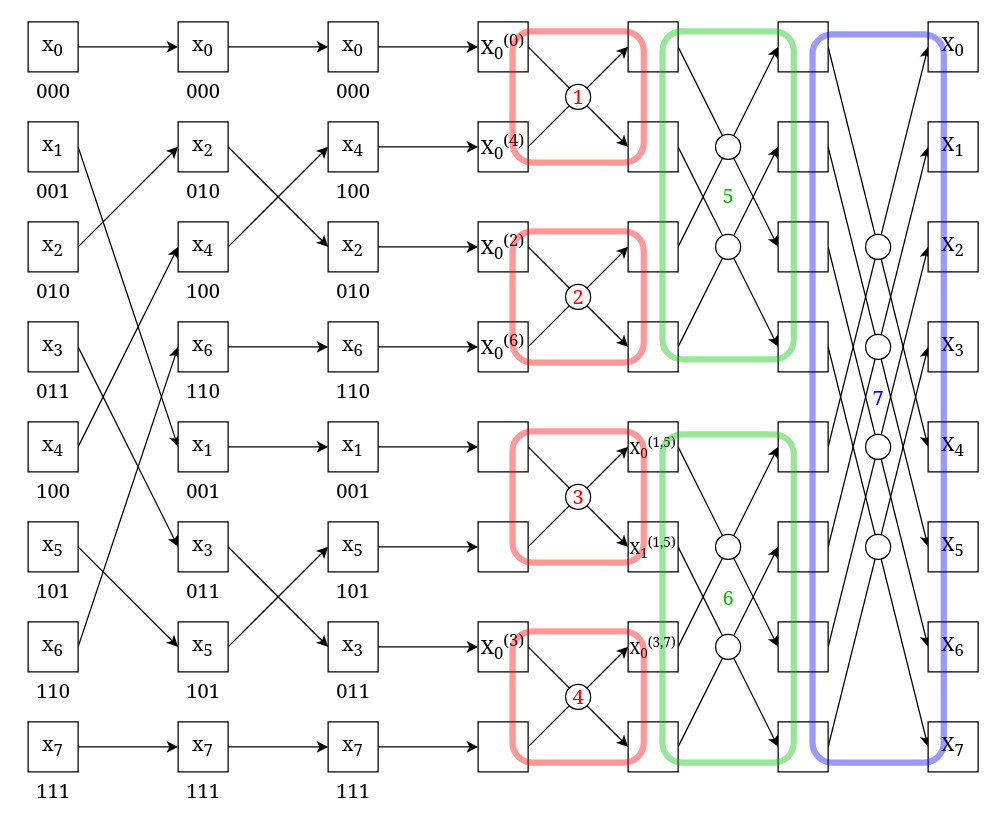
The diagram is 1000 pixels wide and 831 high, and some of its shapes have lost their labels. Each missing label, with the centre of its shape:
"X 0 (0,4)" belongs at [652,46].
"X 0 (0-6)" belongs at [802,46].
"X 0 (1)" belongs at [502,446].
"X 0 (1-7)" belongs at [802,446].
"X 0 (2,6)" belongs at [652,246].
"X 0 (5)" belongs at [502,546].
"X 0 (7)" belongs at [502,746].
"X 1 (0,4)" belongs at [652,146].
"X 1 (0-6)" belongs at [802,146].
"X 1 (1-7)" belongs at [802,546].
"X 1 (2,6)" belongs at [652,346].
"X 1 (3,7)" belongs at [652,746].
"X 2 (0-6)" belongs at [802,246].
"X 2 (1-7)" belongs at [802,646].
"X 3 (0-6)" belongs at [802,346].
"X 3 (1-7)" belongs at [802,746].
